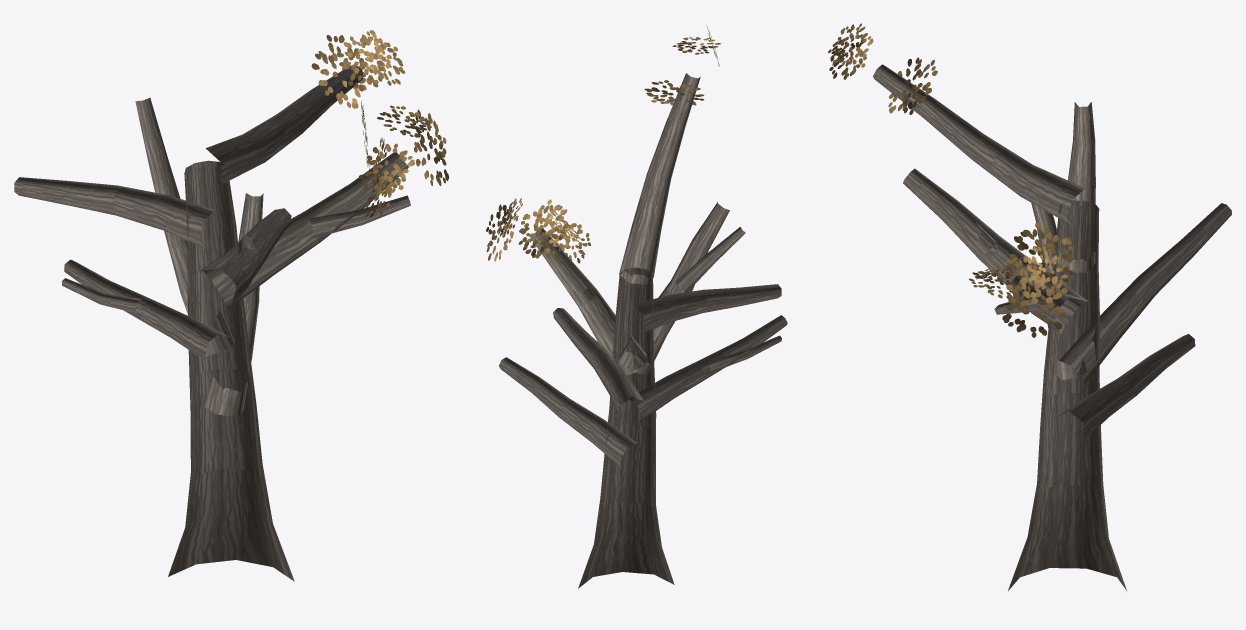
Rendered from tree_dead.glb.
3 renders of one model, left to right at view 1: azimuth 30°, elevation 25°; view 2: azimuth 150°, elevation 25°; view 3: azimuth 270°, elevation 25°, orthographic. The views are drawn at different scales.
Visible parts, largest first — view 1: tree_oak_bark_Oak, tree_oak; view 2: tree_oak_bark_Oak, tree_oak; view 3: tree_oak_bark_Oak, tree_oak.
Part boxes in pixels (x1,y1,x2,y2): tree_oak_bark_Oak: (14, 65, 410, 581); tree_oak: (311, 30, 448, 217); tree_oak_bark_Oak: (499, 73, 787, 588); tree_oak: (486, 25, 720, 263); tree_oak_bark_Oak: (873, 64, 1231, 591); tree_oak: (828, 23, 1074, 337).
Bounding box in the file's own units: 4.78 × 7.59 × 4.85.
2 materials, 2 textured.
